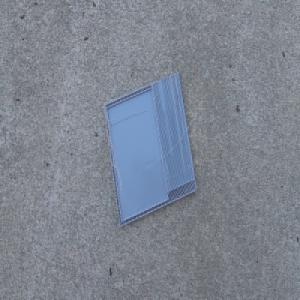PlasticPart: (103, 70, 197, 228)
